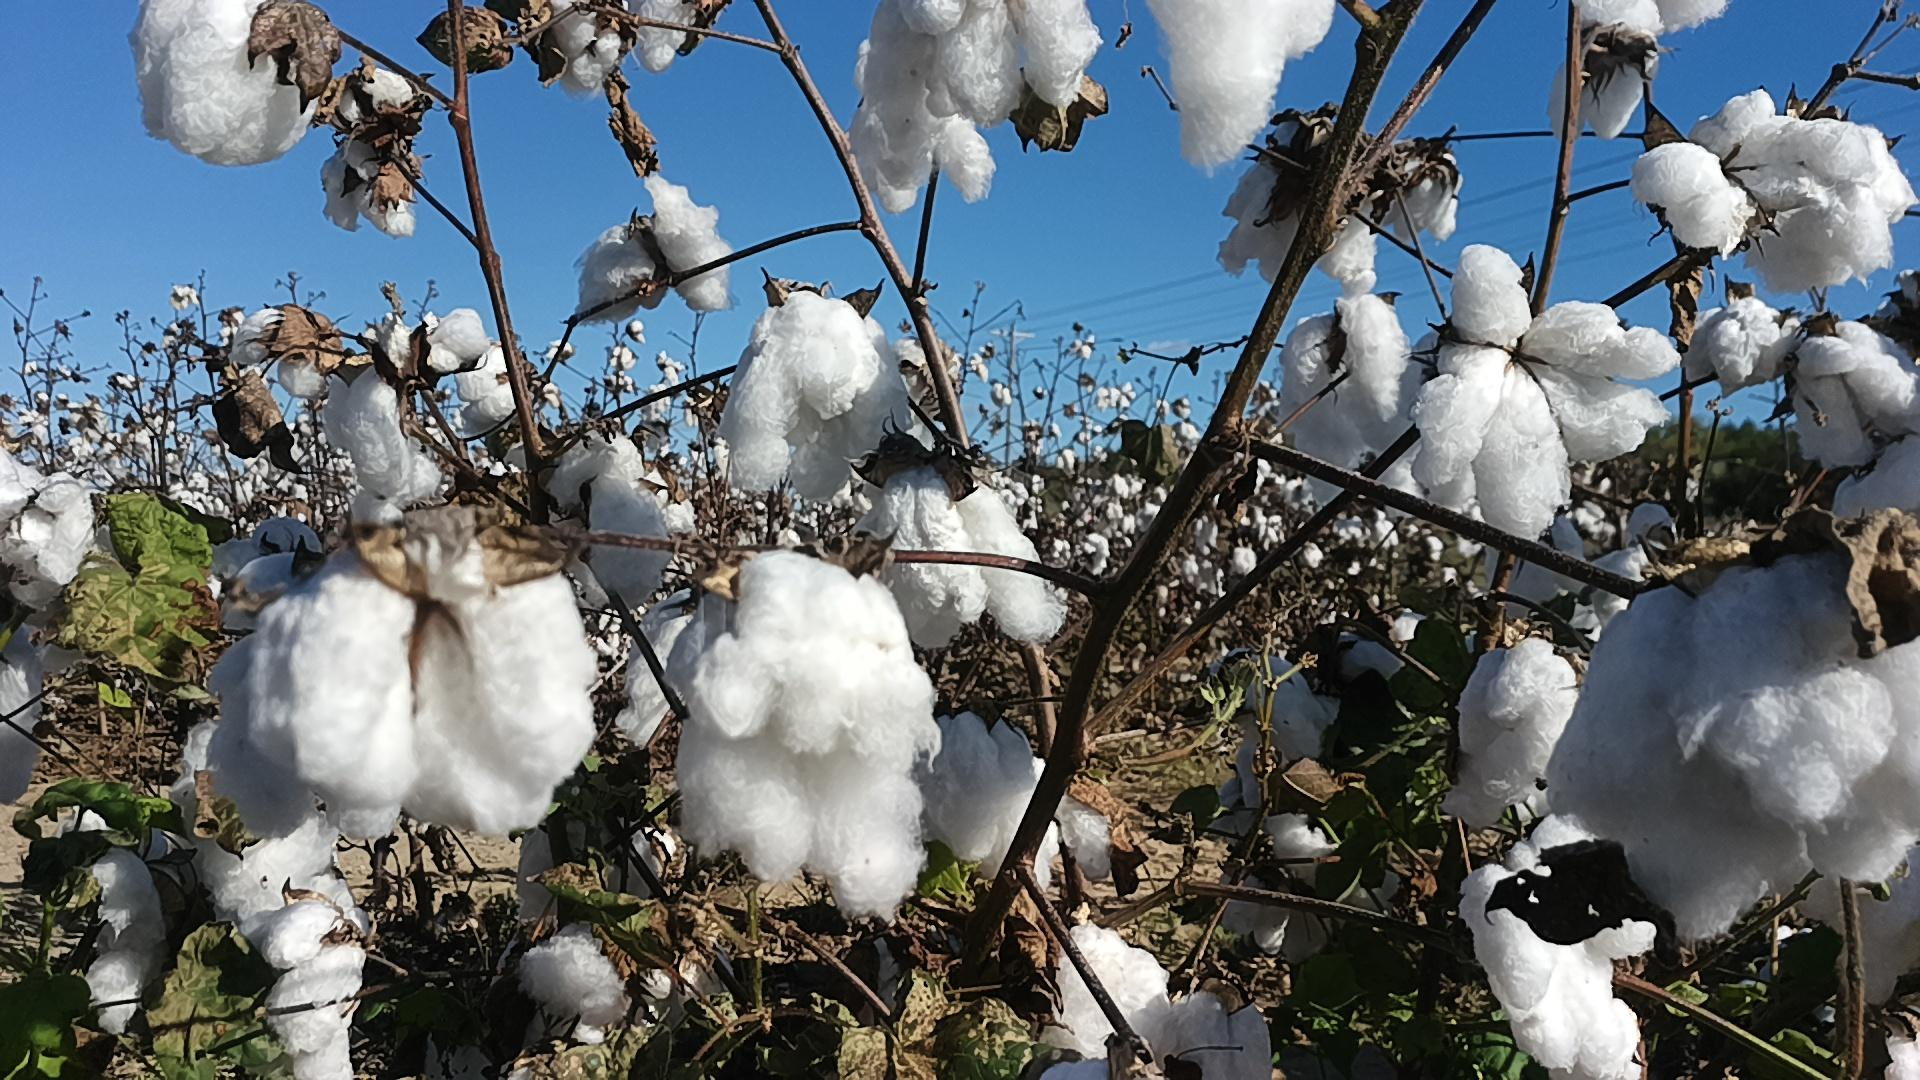cotton_ready: (1545, 546, 1920, 944), (208, 543, 597, 843), (674, 550, 938, 924), (1414, 245, 1680, 541), (1457, 818, 1658, 1080), (1692, 91, 1920, 291), (717, 293, 910, 502), (857, 476, 1063, 647), (1147, 0, 1336, 167), (132, 0, 318, 167), (1213, 128, 1378, 303), (1545, 0, 1730, 145), (1278, 287, 1423, 467), (240, 873, 363, 1080), (1441, 641, 1578, 819), (924, 705, 1058, 889), (868, 0, 1021, 158), (1778, 837, 1920, 1005), (78, 806, 175, 1035), (1034, 928, 1174, 1080), (520, 934, 700, 1047), (1785, 320, 1920, 467), (512, 820, 678, 936), (1212, 815, 1348, 951), (1510, 516, 1648, 640), (1221, 658, 1333, 807), (193, 811, 338, 923), (0, 616, 83, 811), (857, 116, 996, 215), (0, 443, 95, 587), (641, 170, 732, 315), (1633, 138, 1750, 251), (1131, 990, 1278, 1080), (320, 365, 407, 501), (613, 608, 695, 749), (584, 473, 670, 605), (1688, 295, 1808, 389), (324, 141, 418, 237), (1022, 0, 1101, 113), (575, 225, 663, 326), (1371, 150, 1462, 247), (1825, 438, 1920, 529), (228, 310, 328, 396), (551, 429, 647, 517), (233, 516, 326, 607), (345, 451, 443, 535), (1052, 786, 1126, 885), (454, 340, 524, 436), (160, 717, 215, 823), (558, 16, 622, 95), (632, 0, 700, 73), (336, 66, 415, 128), (423, 306, 488, 373), (361, 310, 418, 365), (1875, 1015, 1920, 1080)
